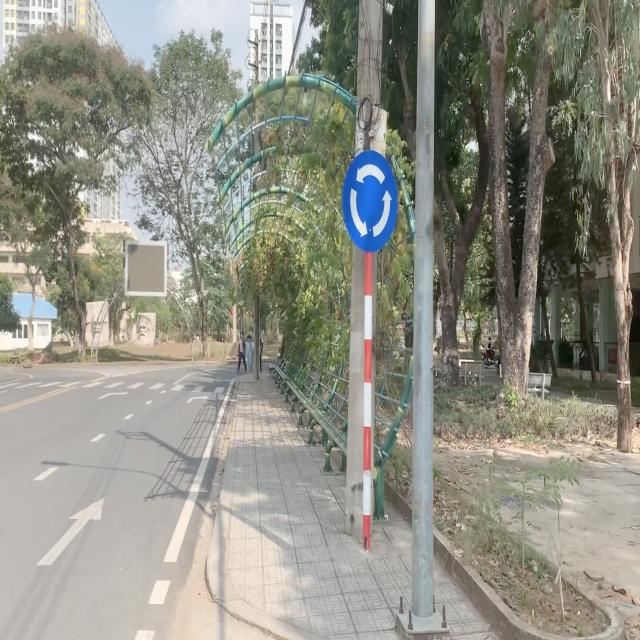Vong xuyen: (342, 149, 398, 253)
